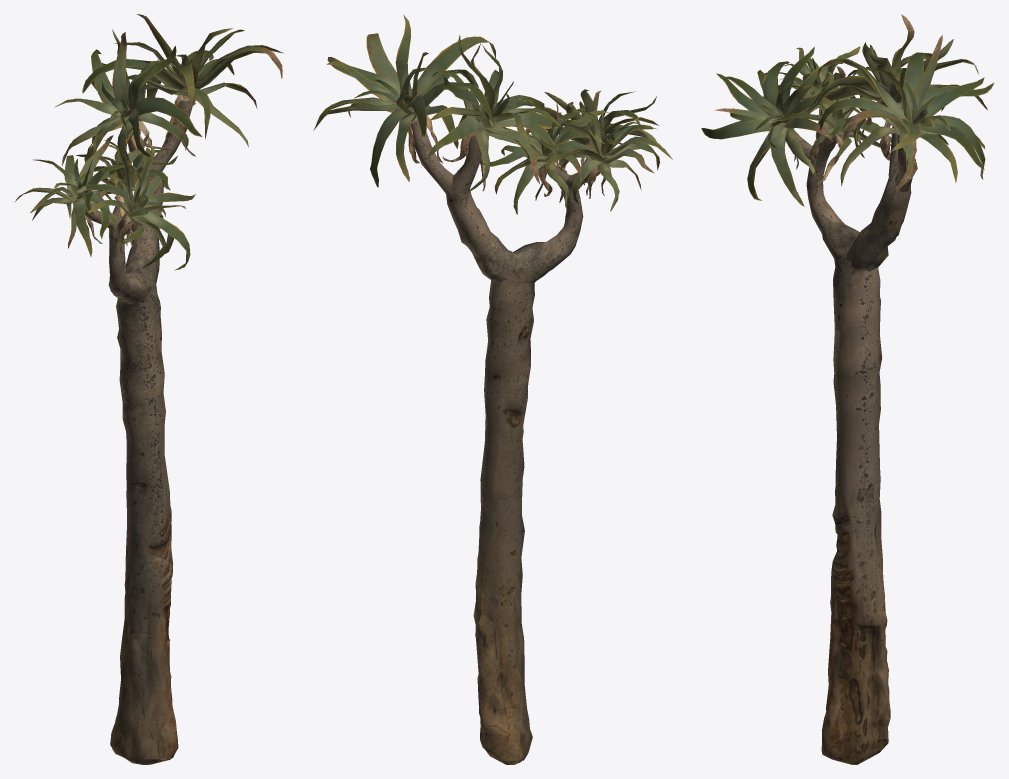
The model's file is quiver_tree_01.glb.
3 renders of one model, left to right at view 1: azimuth 30°, elevation 25°; view 2: azimuth 150°, elevation 25°; view 3: azimuth 270°, elevation 25°, orthographic. The views are drawn at different scales.
Visible parts, largest first — view 1: quiver_tree_01; view 2: quiver_tree_01; view 3: quiver_tree_01.
Part boxes in pixels (x1=…): quiver_tree_01: x1=14, y1=14, x2=283, y2=764; quiver_tree_01: x1=313, y1=14, x2=672, y2=764; quiver_tree_01: x1=701, y1=14, x2=994, y2=764.
Size of the model in its own units: 1.18 by 2.71 by 0.9707.
2 materials, 2 textured.
